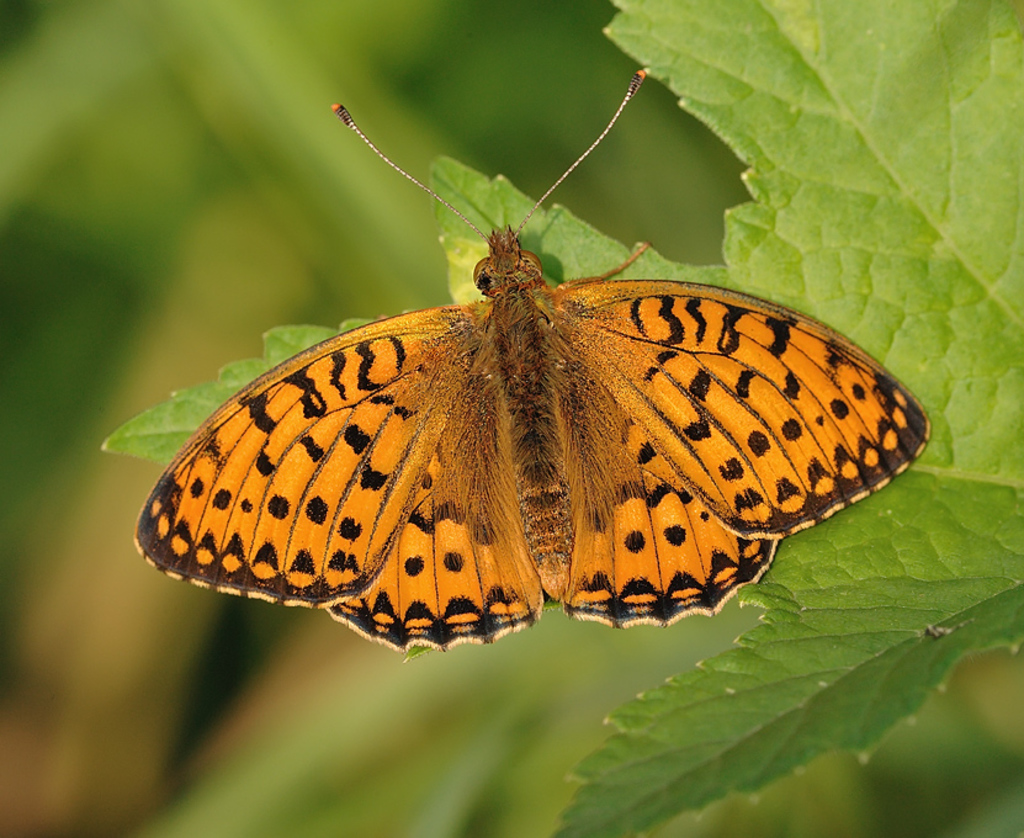Butterfly: (130, 88, 925, 669)
